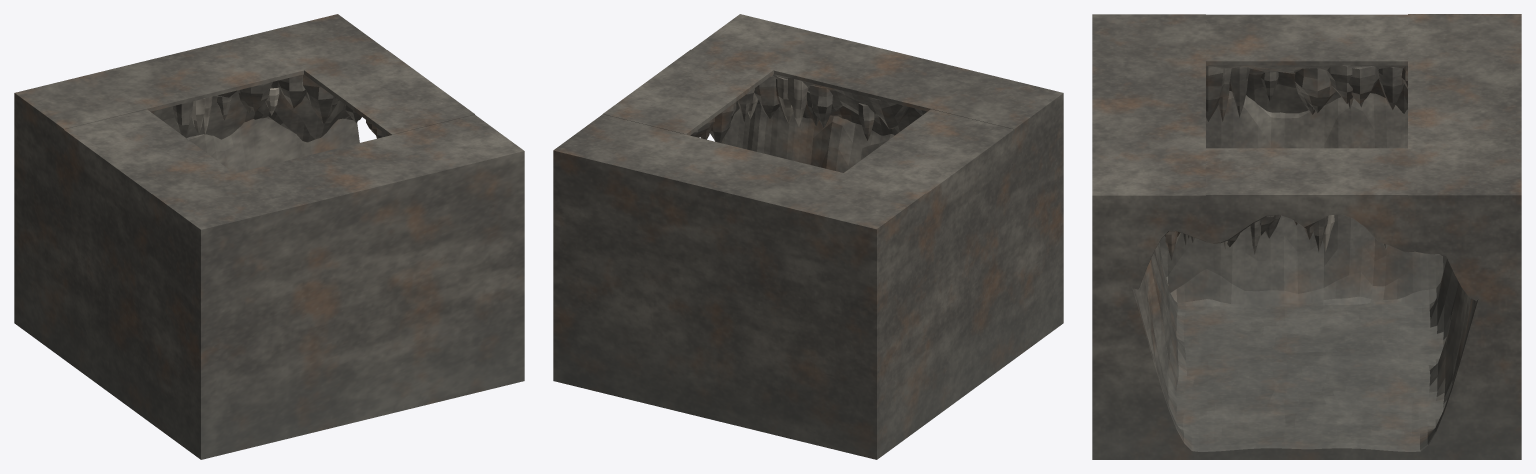
The model's file is dungeon_cave_end.glb.
3 renders of one model, left to right at view 1: azimuth 30°, elevation 25°; view 2: azimuth 150°, elevation 25°; view 3: azimuth 270°, elevation 25°, orthographic. The views are drawn at different scales.
Parts seen in each view (by area): view 1: dungeon_cave_end; view 2: dungeon_cave_end; view 3: dungeon_cave_end.
Boxes of the visible parts, x1=… form: dungeon_cave_end: x1=14, y1=14, x2=524, y2=459; dungeon_cave_end: x1=553, y1=14, x2=1063, y2=459; dungeon_cave_end: x1=1092, y1=14, x2=1521, y2=459.
Bounding box in the file's own units: 5.05 × 3.45 × 5.05.
Materials: 1 (1 with a texture image).
